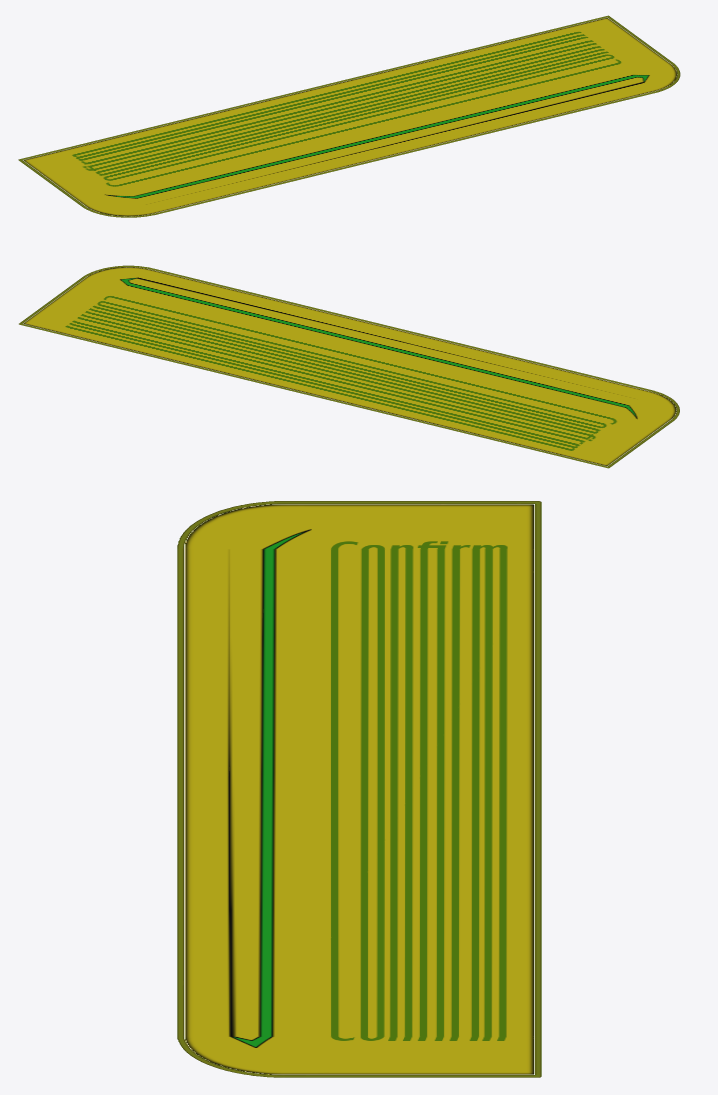
The model's file is resouce_background.fbx.
3 views of the same model, one above another, from view 1: azimuth 30°, elevation 25°; view 2: azimuth 150°, elevation 25°; view 3: azimuth 270°, elevation 25° (orthographic). The views are drawn at different scales.
Visible parts, largest first — view 1: Plane; view 2: Plane; view 3: Plane.
Part boxes in pixels (x1,y1,x2,y2): Plane: [18, 15, 680, 217]; Plane: [19, 265, 679, 468]; Plane: [177, 501, 541, 1077].
Bounding box in the file's own units: 11.45 × 5.06e-07 × 3.11.
